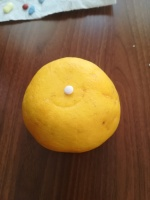Yuvarlak Buskopan: (63, 85, 74, 95)
